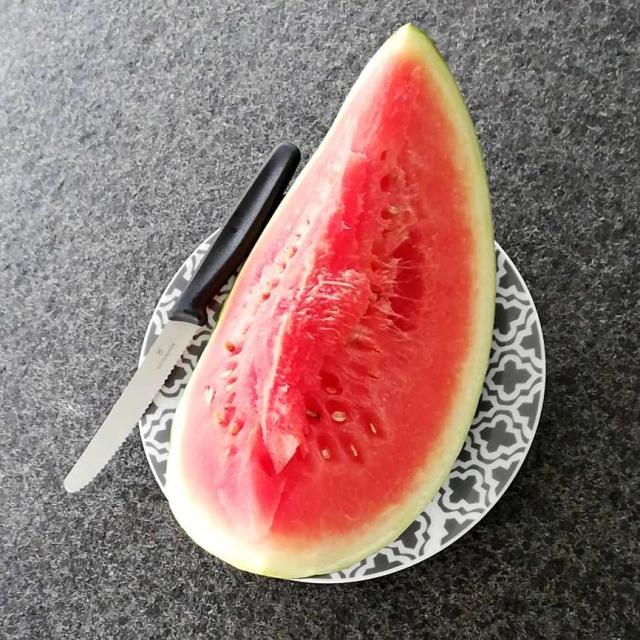watermelon-fresh: (174, 42, 494, 567)
